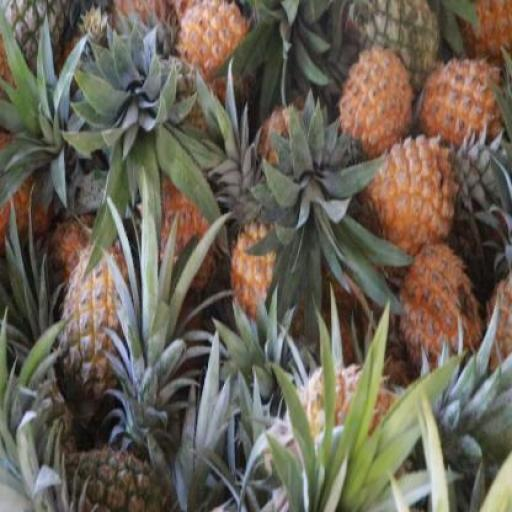------------------------------: (65, 246, 134, 398)
Pineapple - v8 v1: (398, 245, 488, 377), (368, 130, 454, 253), (338, 50, 415, 164), (423, 56, 507, 152), (176, 0, 250, 96)
